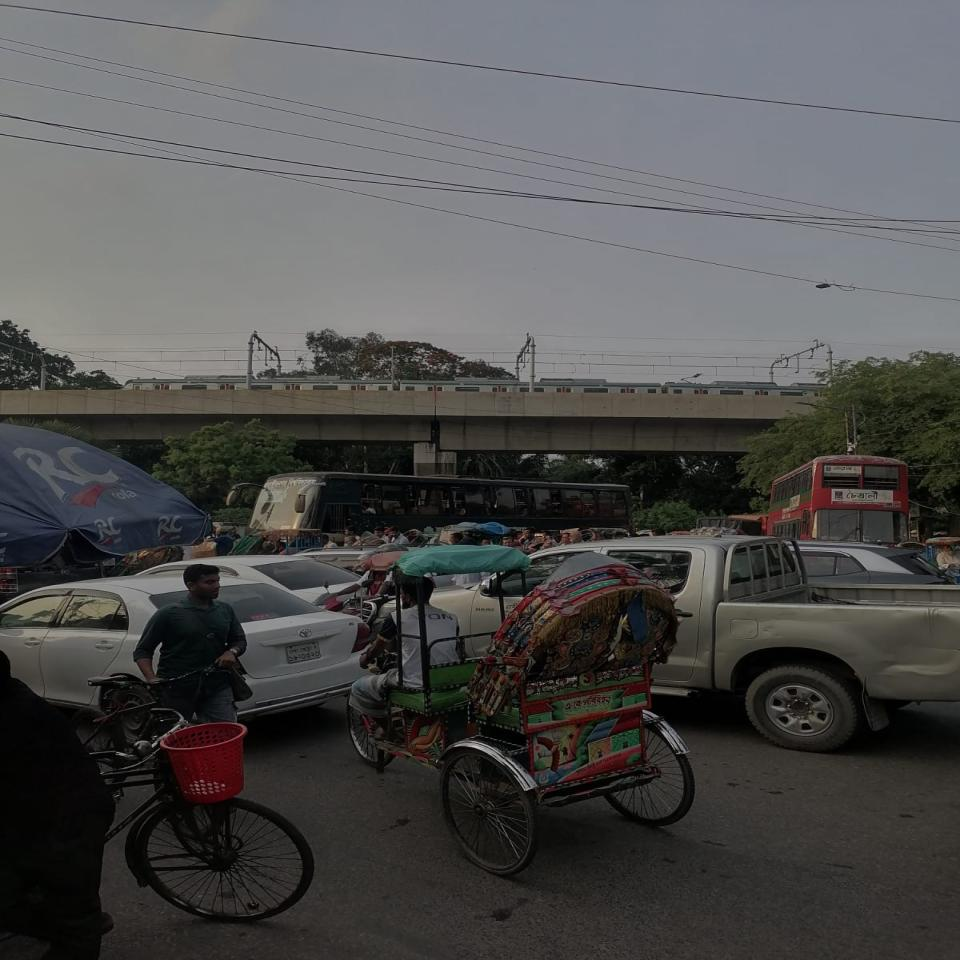person: (133, 564, 249, 723)
